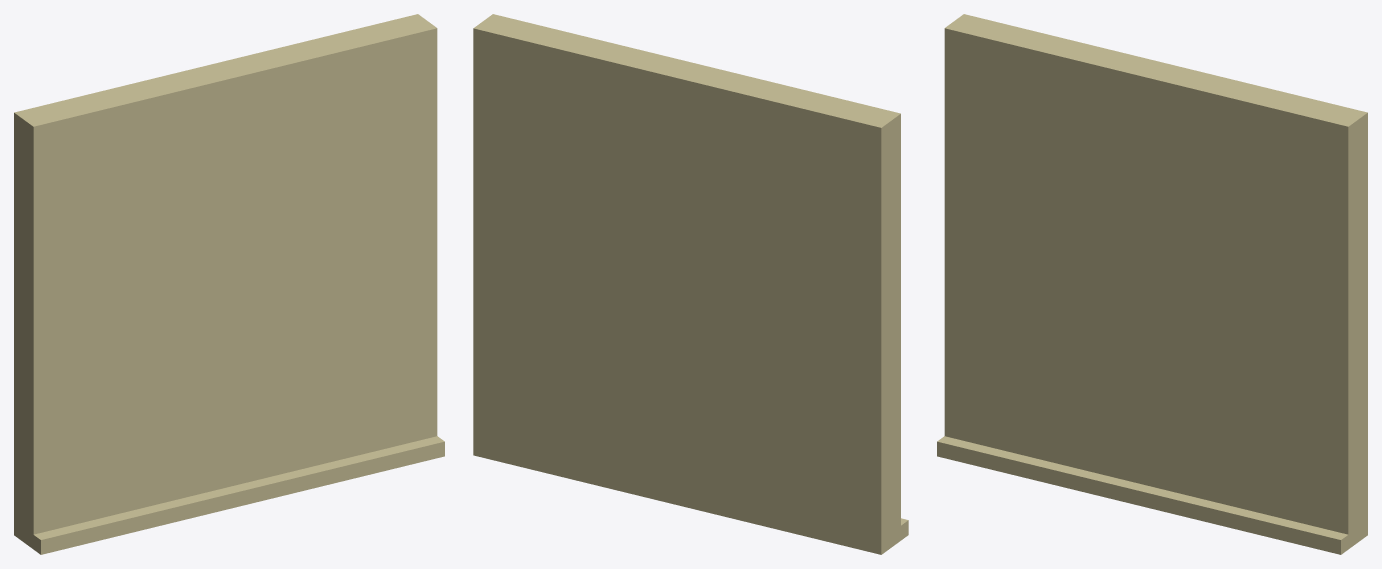
The model's file is BaseWall.fbx.
The picture shows the model from 3 angles, left to right: view 1: azimuth 30°, elevation 25°; view 2: azimuth 150°, elevation 25°; view 3: azimuth 330°, elevation 25°; orthographic projection.
Visible parts, largest first — view 1: Base; view 2: Base; view 3: Base.
Part boxes in pixels (x1,y1,x2,y2): Base: (14,14,444,554); Base: (473,14,908,554); Base: (937,14,1367,554).
Size of the model in its own units: 600 by 600 by 69.16.
